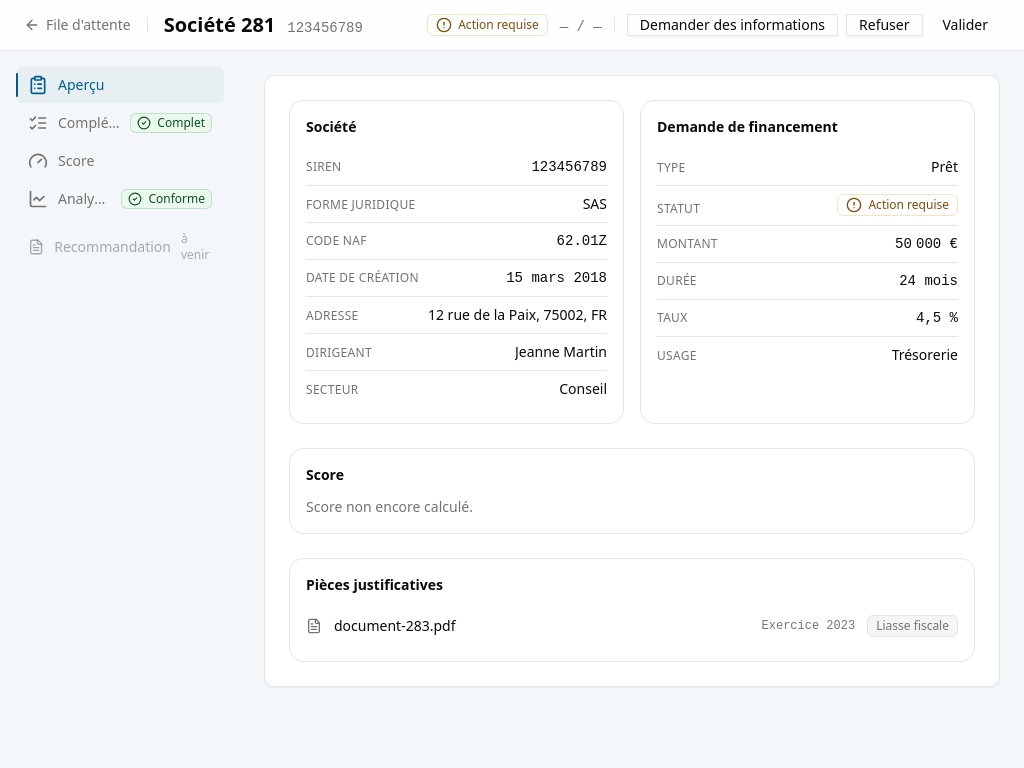
Workspace — Score section › shows the empty state when score is missing
Click the button "Score" at (120, 161), box [16,143,224,179]
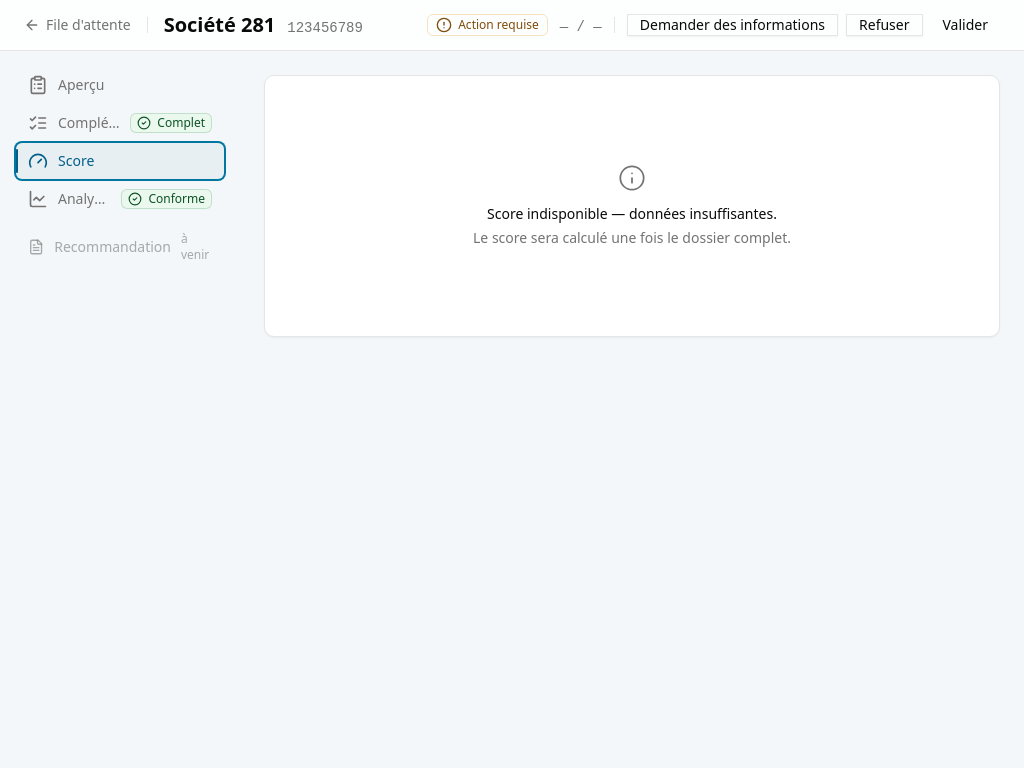
Expected: the text "Score indisponible — données insuffisantes." is shown, [473,204,791,224]
